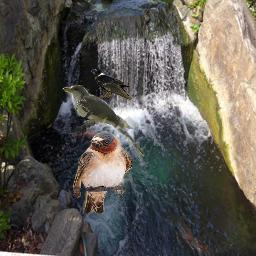Crow: (91, 68, 132, 100)
Cuckoo: (62, 85, 146, 157)
Swallow: (73, 131, 132, 214)
